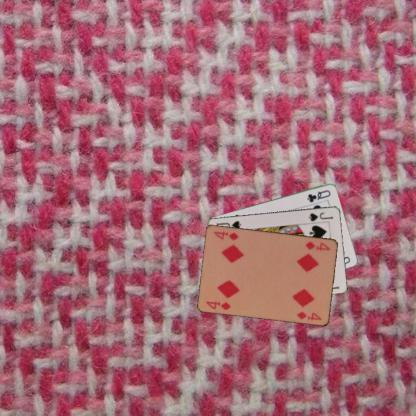4d: (204, 298, 233, 312), (302, 239, 332, 252)
Js: (306, 210, 334, 222)
Qc: (304, 188, 332, 204)
